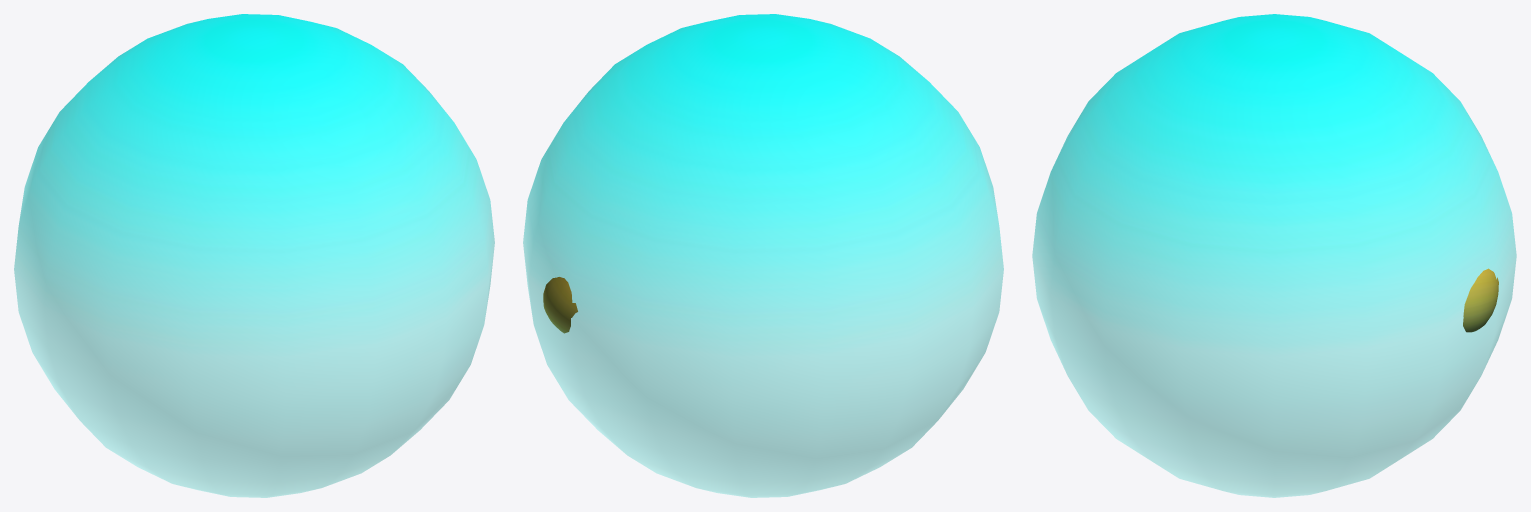
Rendered from trip-fellas-map-transformed.glb.
The picture shows the model from 3 angles, left to right: view 1: azimuth 30°, elevation 25°; view 2: azimuth 150°, elevation 25°; view 3: azimuth 270°, elevation 25°; orthographic projection.
Visible parts, largest first — view 1: sky; view 2: sky, mountain.002; view 3: sky, mountain.002.
Boxes of the visible parts, x1,y1,x2,y2 form: sky: (14,14,494,497); sky: (523,14,1003,497); mountain.002: (543,277,577,333); sky: (1032,14,1516,497); mountain.002: (1463,268,1498,332).
Bounding box in the file's own units: 785 × 785 × 785.
Materials: 3 (3 with a texture image).
